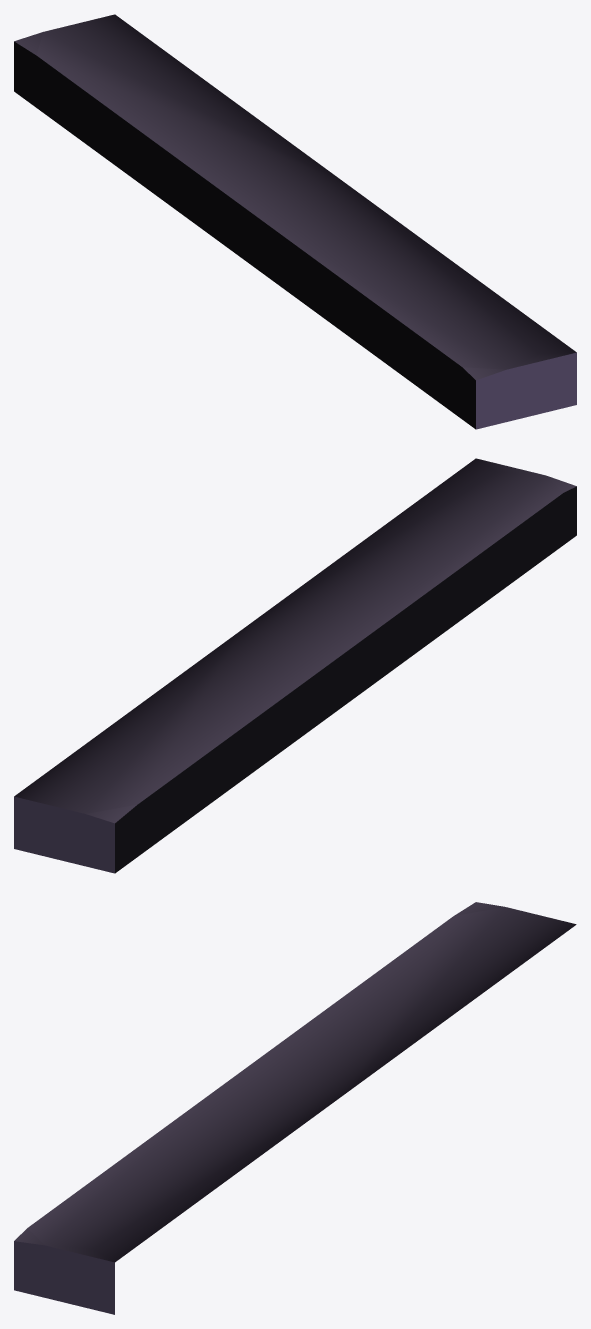
File: SidleFooting.gltf
3 renders of one model, top to bottom at view 1: azimuth 30°, elevation 25°; view 2: azimuth 150°, elevation 25°; view 3: azimuth 330°, elevation 25°, orthographic.
Visible parts, largest first — view 1: SidleFootingMesh; view 2: SidleFootingMesh; view 3: SidleFootingMesh.
Part boxes in pixels (x1,y1,x2,y2): SidleFootingMesh: (14, 14, 576, 429); SidleFootingMesh: (14, 458, 576, 873); SidleFootingMesh: (14, 902, 576, 1314).
Bounding box in the file's own units: 0.3788 × 0.1879 × 3.
